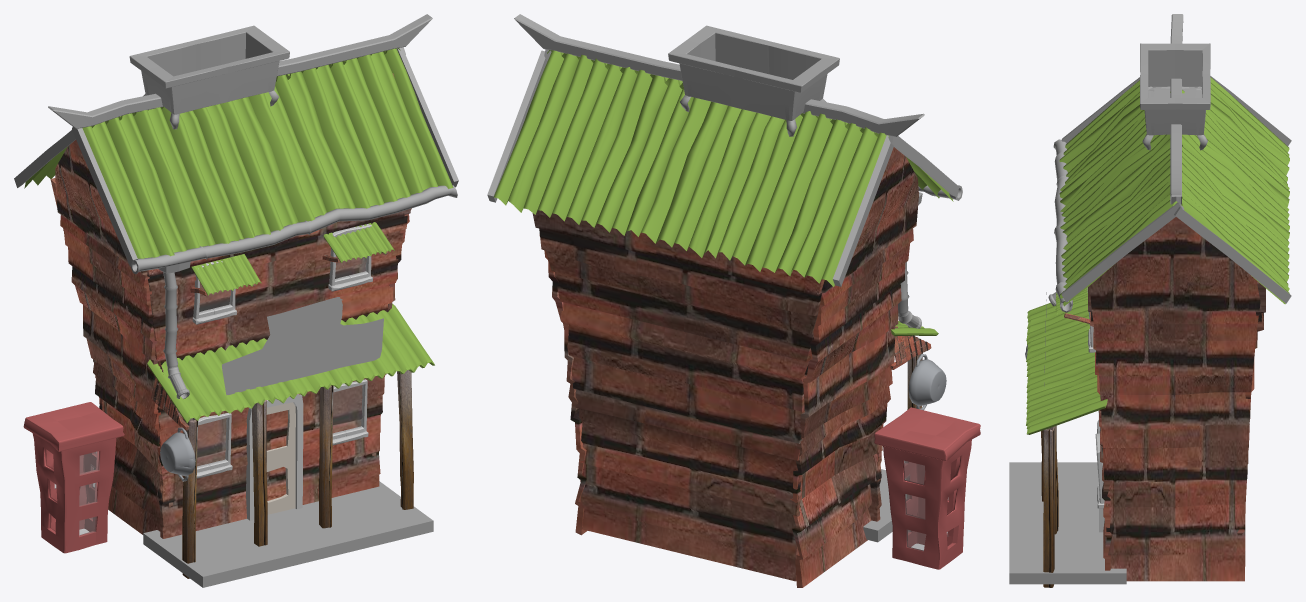
Rendered from hhhhhhhouse.fbx.
3 views of the same model, side by side, from view 1: azimuth 30°, elevation 25°; view 2: azimuth 150°, elevation 25°; view 3: azimuth 270°, elevation 25° (orthographic). The views are drawn at different scales.
Parts seen in each view (by area): view 1: pasted__polySurface10, pasted__pasted__pasted__pasted__pasted__extrudedSurface7, pasted__pasted__pasted__pasted__extrudedSurface8, pCube10, pasted__pasted__polySurface6 (×2), pCube2, polySurface17, nurbsToPoly2, pasted__pCube4 (×3), nurbsToPoly1, pCube3, pasted__pasted__polySurface18 (×2) (+13 smaller); view 2: pasted__pasted__pasted__pasted__extrudedSurface7, polySurface7, pasted__pasted__pasted__pasted__extrudedSurface8, pCube2, polySurface17, pCube3, pasted__polySurface8, pasted__pasted__pasted__pasted__extrudedSurface9, polySurface8, nurbsToPoly3, pasted__pasted__pasted__pasted__polySurface5, pCube10 (+3 smaller); view 3: pasted__pasted__pasted__pasted__extrudedSurface9, polySurface7, pasted__polySurface10, pCube10, pasted__pasted__polySurface6, polySurface17, pCube4, pasted__pasted__pasted__polySurface5, pCube3, nurbsToPoly1, polySurface8, pasted__pasted__pasted__pasted__pasted__extrudedSurface7 (+5 smaller).
Part boxes in pixels (x1,y1,x2,y2): pasted__polySurface10: (82,48,453,258); pasted__pasted__pasted__pasted__pasted__extrudedSurface7: (147,208,410,538); pasted__pasted__pasted__pasted__extrudedSurface8: (55,140,172,534); pCube10: (143,481,433,587); pasted__pasted__polySurface6 (×2): (147,254,434,423); pCube2: (23,402,124,553); polySurface17: (129,25,289,129); nurbsToPoly2: (222,297,383,395); pasted__pCube4 (×3): (182,385,333,578); nurbsToPoly1: (131,185,457,274); pCube3: (48,14,432,128); pasted__pasted__polySurface18 (×2): (192,261,236,478); pasted__pasted__pasted__pasted__extrudedSurface7: (532,210,824,581); polySurface7: (494,50,886,286); pasted__pasted__pasted__pasted__extrudedSurface8: (790,147,918,587); pCube2: (874,407,980,569); polySurface17: (668,25,839,136); pCube3: (514,14,924,136); pasted__polySurface8: (832,135,893,286); pasted__pasted__pasted__pasted__extrudedSurface9: (539,234,587,535); polySurface8: (487,50,547,202); nurbsToPoly3: (908,359,946,406); pasted__pasted__pasted__pasted__polySurface5: (888,135,958,197); pCube10: (863,469,906,542); pasted__pasted__pasted__pasted__extrudedSurface9: (1089,217,1260,581); polySurface7: (1173,77,1289,304); pasted__polySurface10: (1059,80,1182,306); pCube10: (1009,462,1126,584); pasted__pasted__polySurface6: (1026,303,1107,434); polySurface17: (1140,43,1210,150); pCube4: (1043,426,1054,587); pasted__pasted__pasted__polySurface5: (1061,202,1183,302); pCube3: (1170,14,1183,204); nurbsToPoly1: (1053,139,1072,312); polySurface8: (1174,207,1291,303); pasted__pasted__pasted__pasted__pasted__extrudedSurface7: (1088,286,1112,570).
Size of the model in its own units: 0.4667 by 0.5013 by 0.2864.
